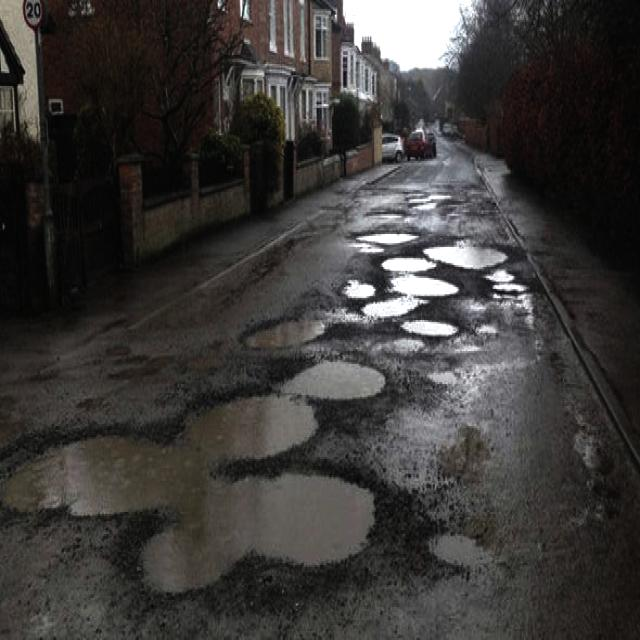Pothole: (18, 299, 394, 624), (266, 213, 558, 437)
